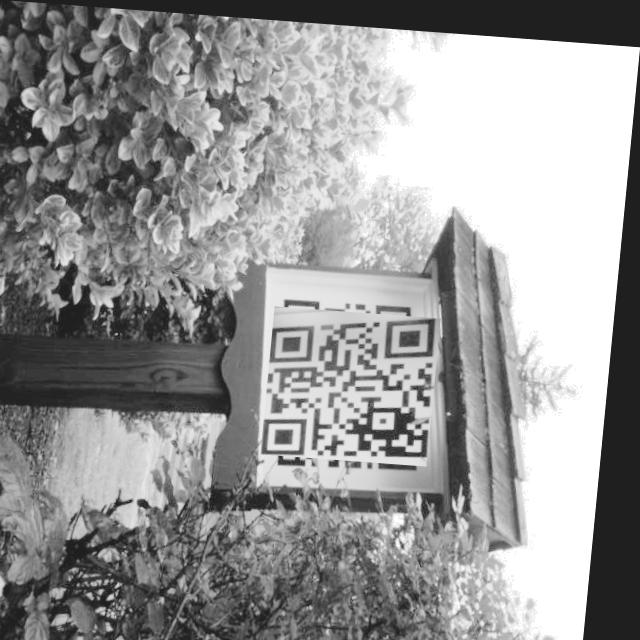qr_code: (273, 298, 441, 464)
